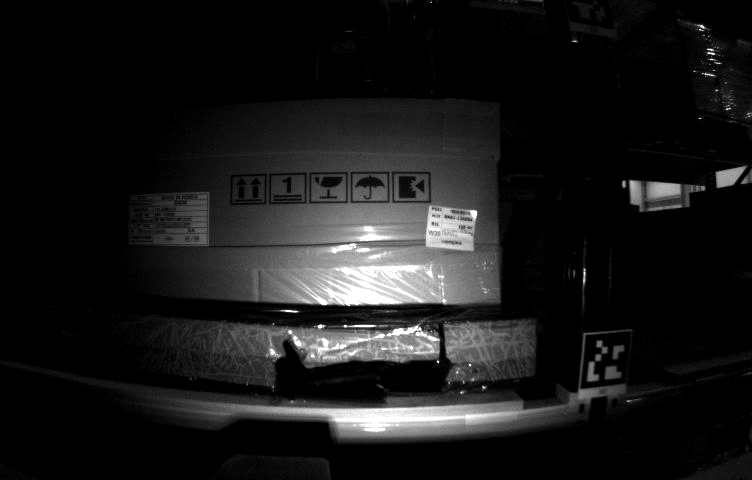True Barcode: (426, 202, 479, 257)
